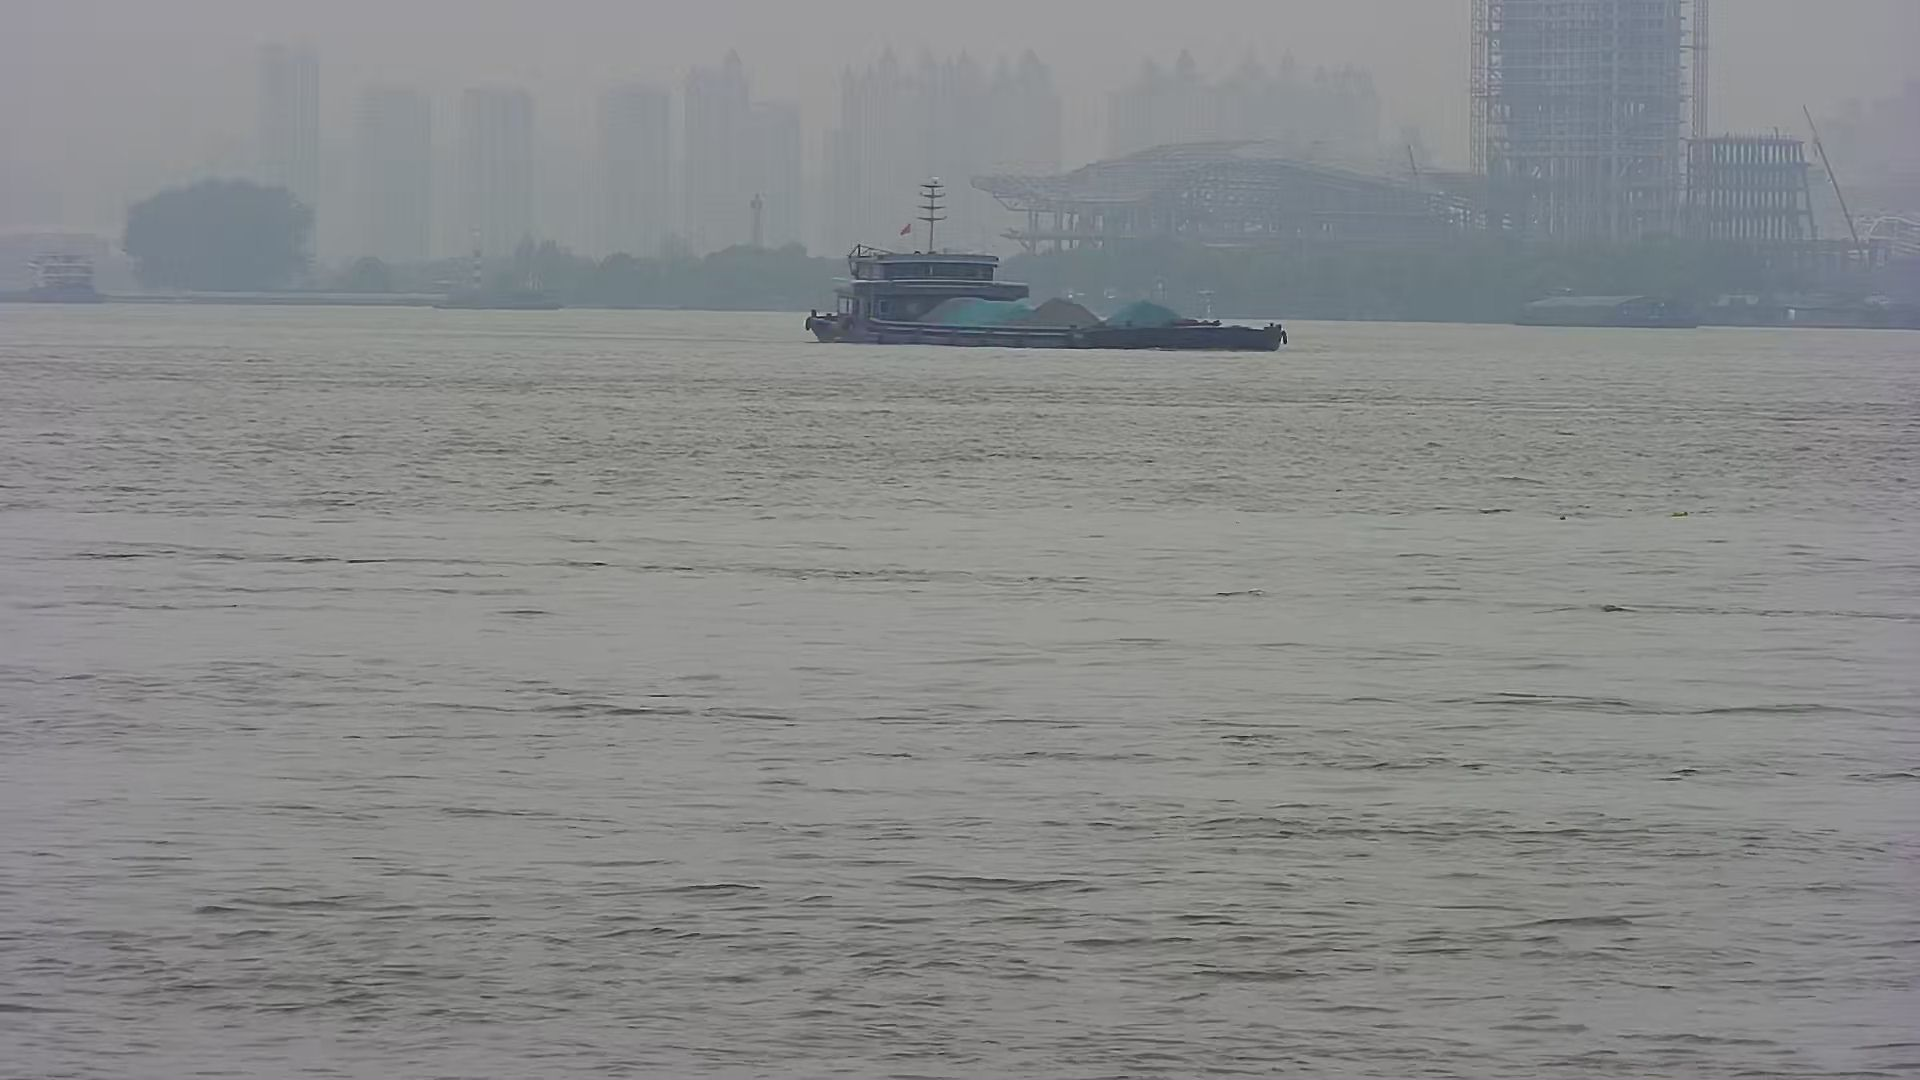ship: (793, 237, 1298, 359), (1505, 282, 1716, 342), (419, 280, 574, 315)
